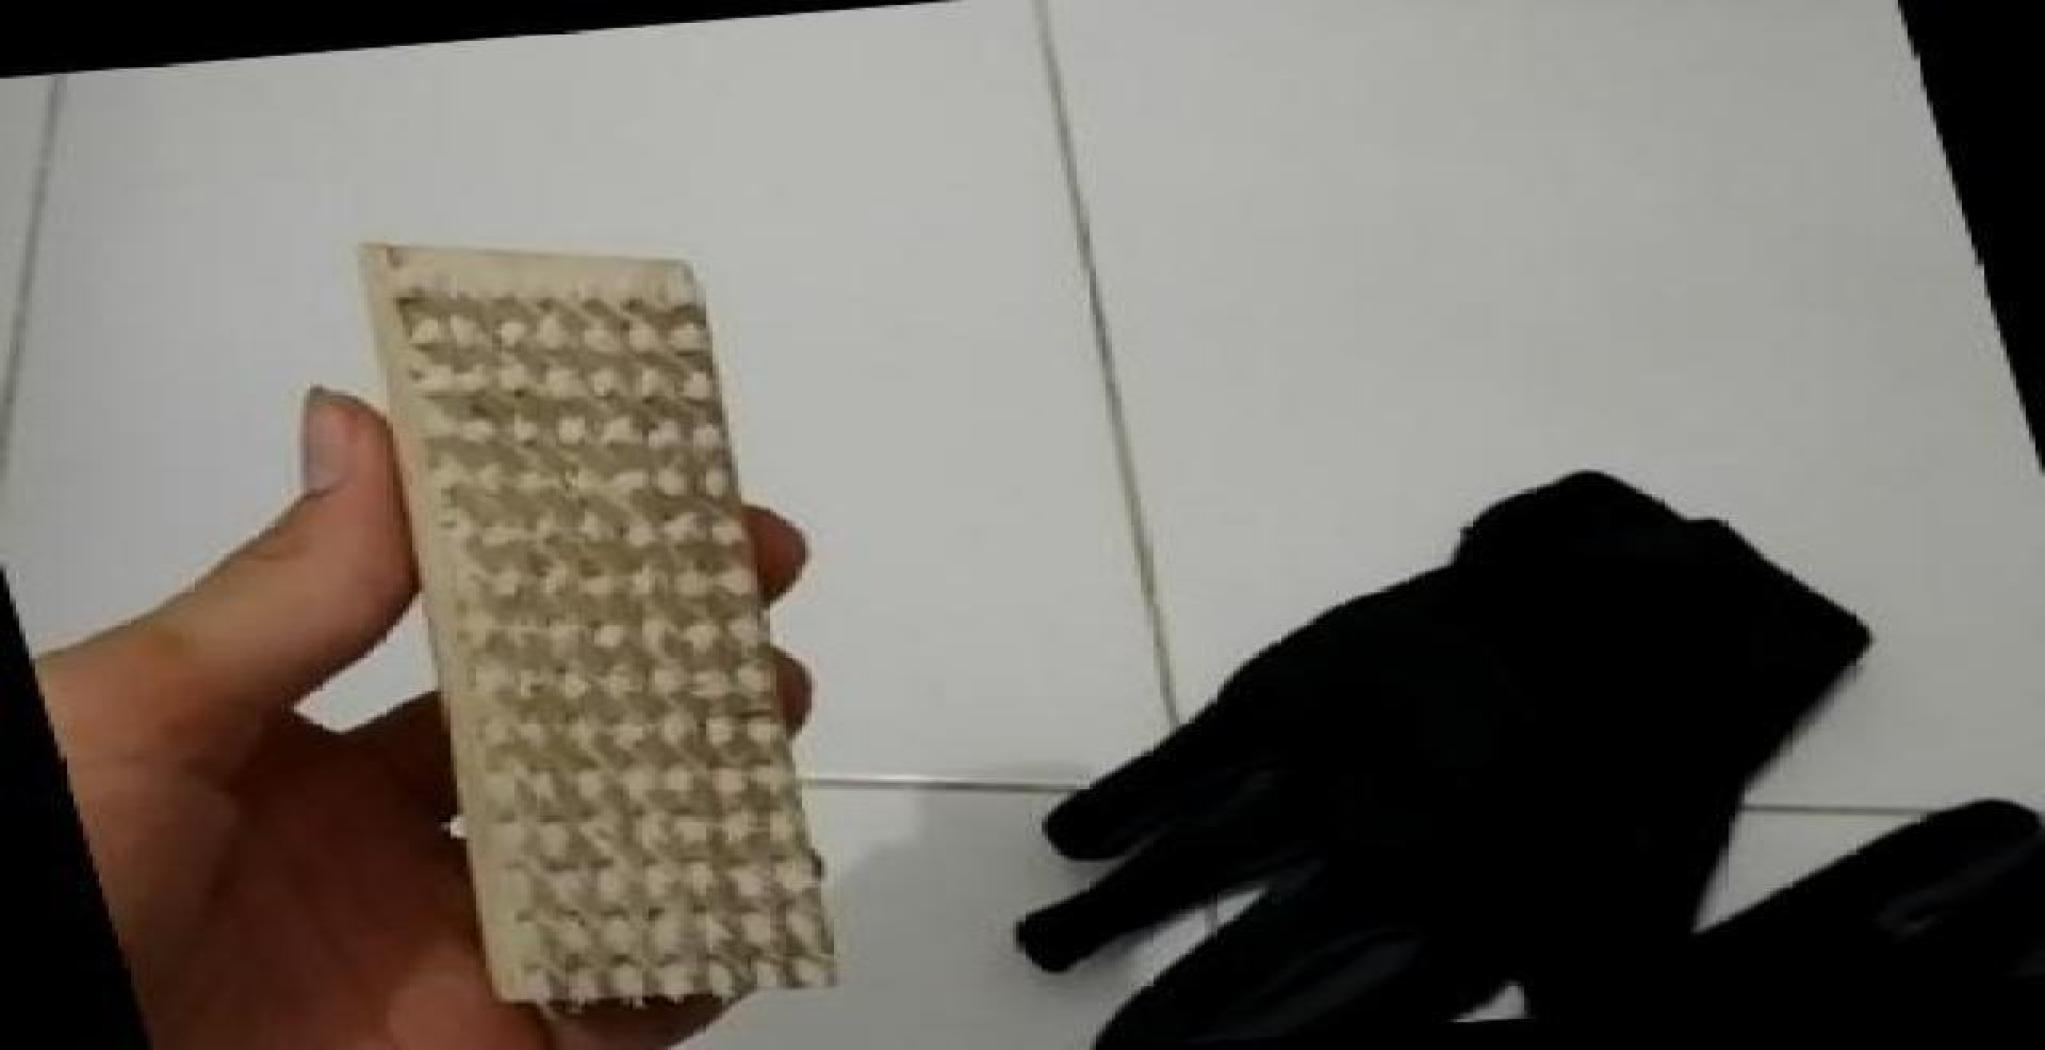not-gloved: (4, 361, 886, 1040)
